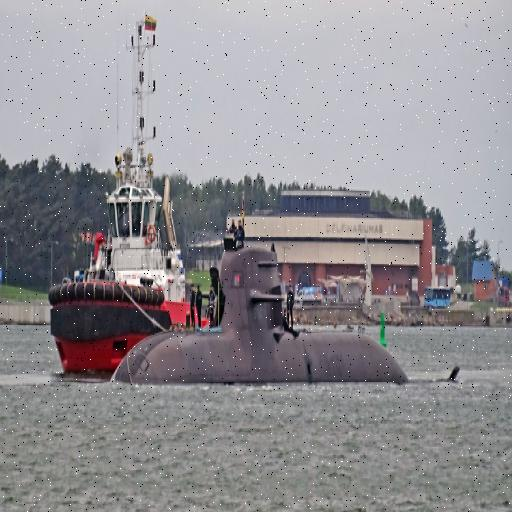submarine: (109, 242, 464, 388)
